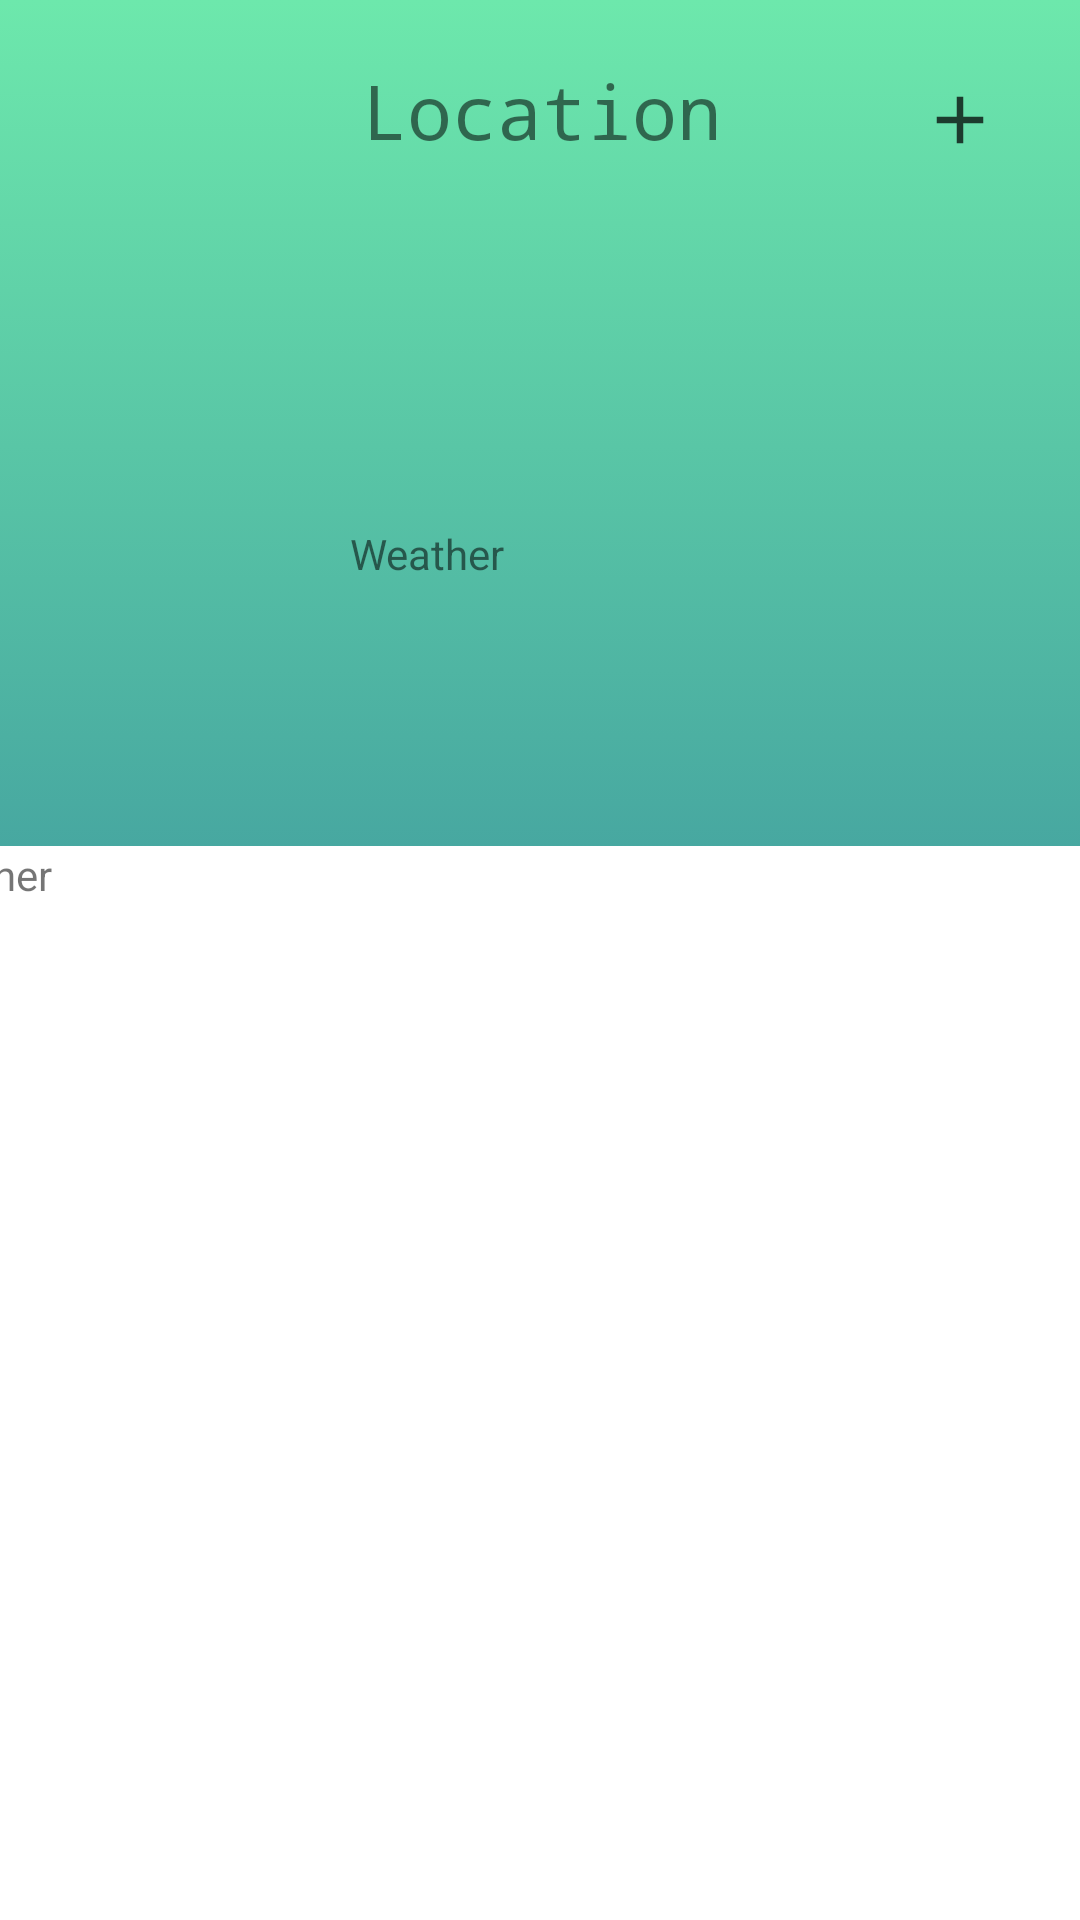

Icons on this 1080x1920 Android screen, each with its box as (x1, y1, x2, y2):
add: (936, 96, 984, 144)
